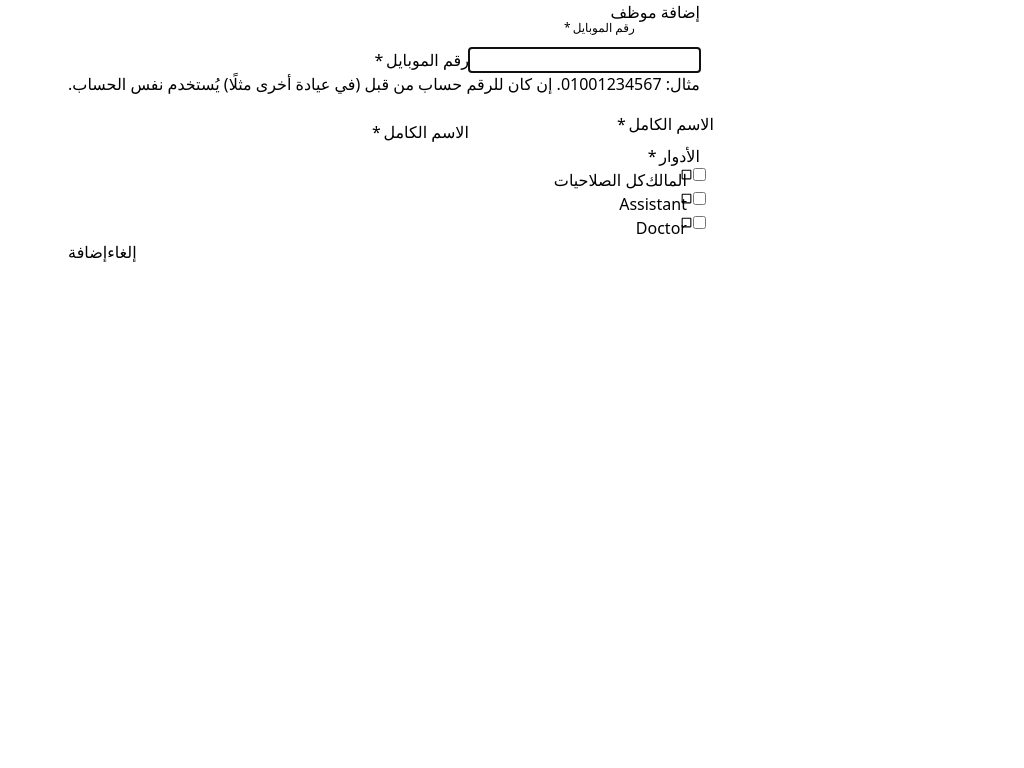
Test: add a staff member @area:admin › submitted empty: «رقم الموبايل مطلوب.», «الاسم مطلوب.», «اختر دورًا واحدًا على الأقل.», the focus on the phone, no request @ADM-245
Click the field labelled "الاسم الكامل *".
click(584, 132)  # box 469,120 -> 700,144
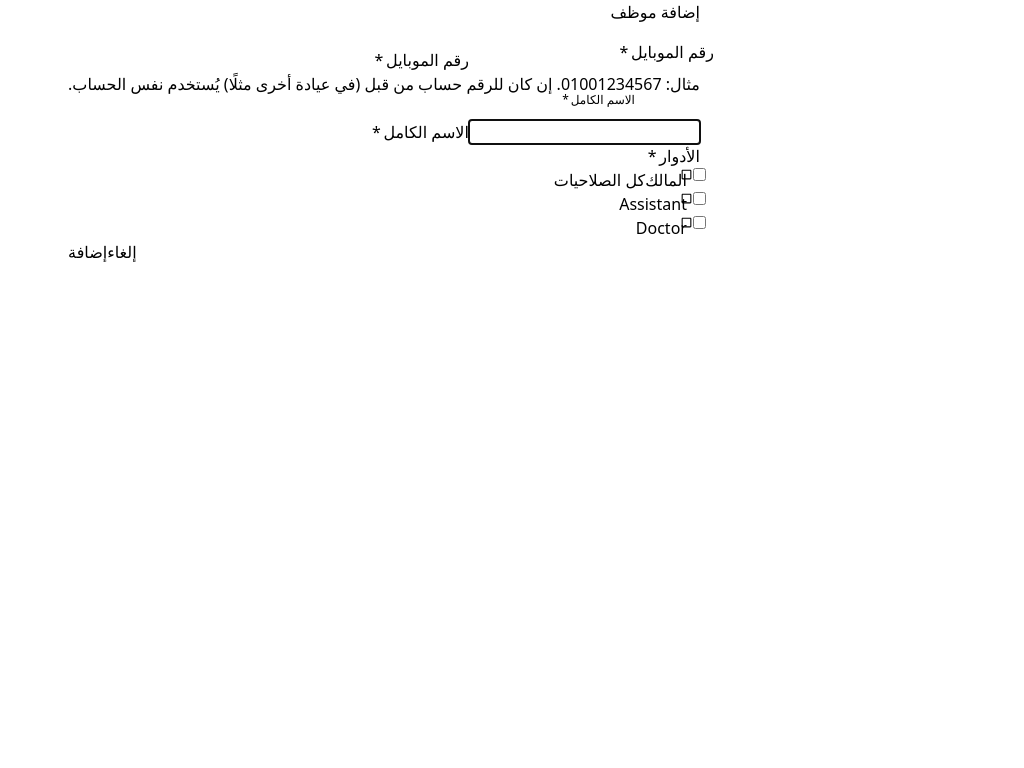
Click the button "إضافة".
click(88, 252)  # box 68,240 -> 107,264
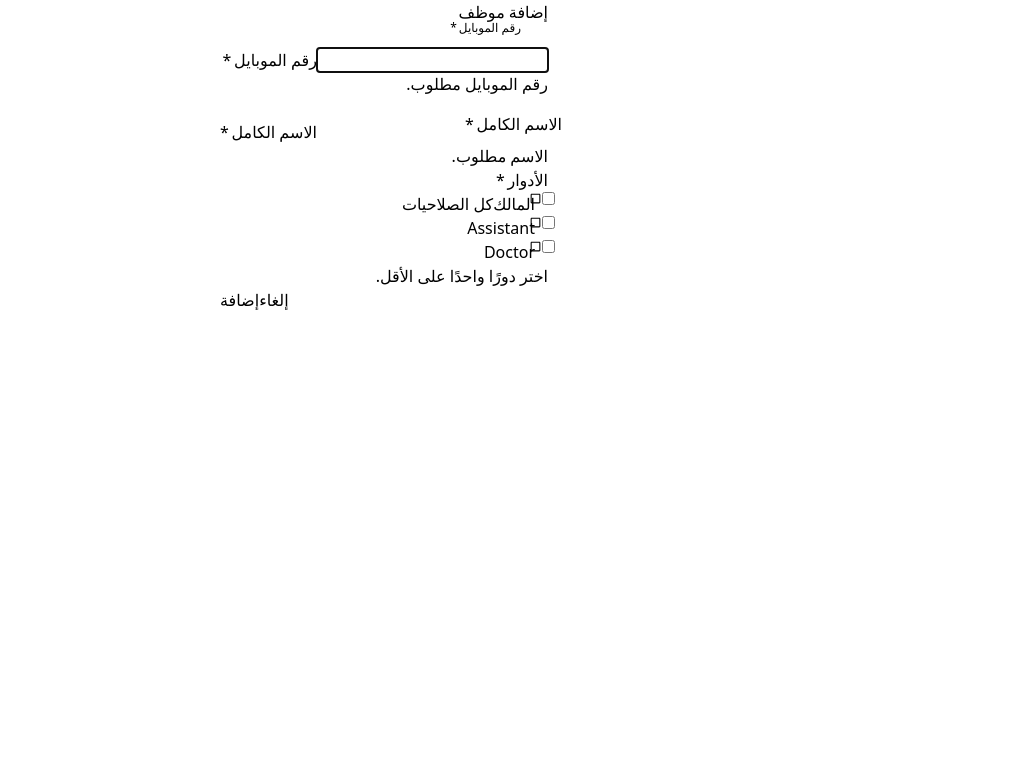
Result: the text "اختر دورًا واحدًا على الأقل." is shown at 376,265 -> 548,287
